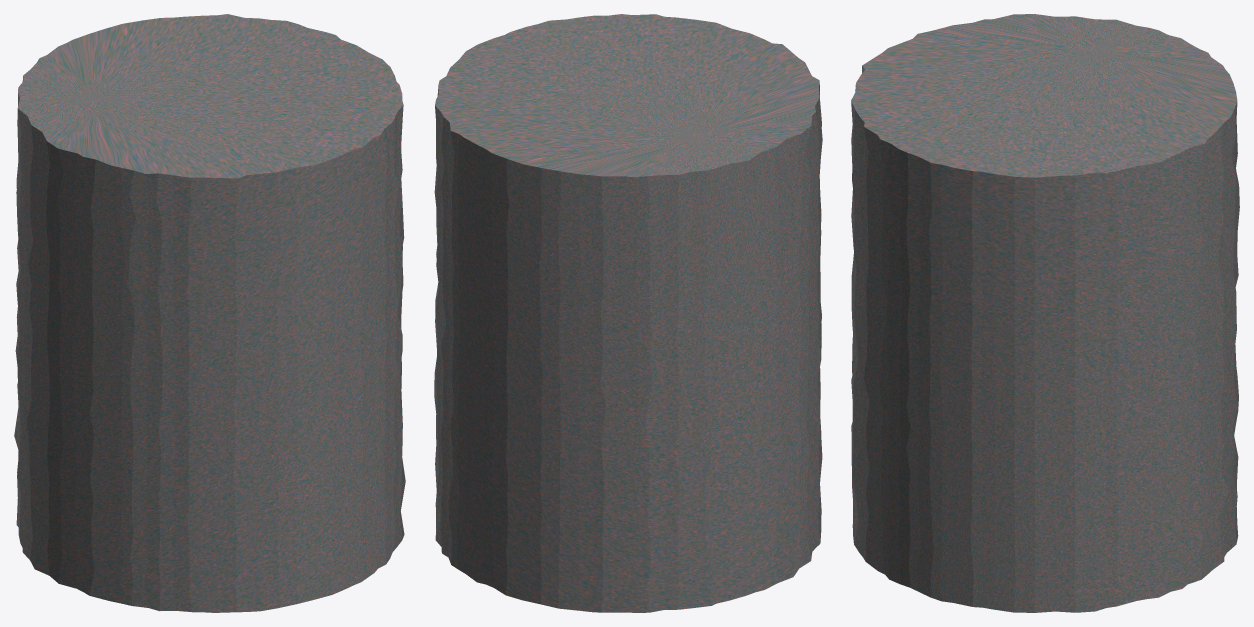
Rendered from barrel_19.dae.
3 views of the same model, side by side, from view 1: azimuth 30°, elevation 25°; view 2: azimuth 150°, elevation 25°; view 3: azimuth 270°, elevation 25° (orthographic).
Parts seen in each view (by area): view 1: Cylinder; view 2: Cylinder; view 3: Cylinder.
Boxes of the visible parts, x1,y1,x2,y2 form: Cylinder: [14, 14, 405, 612]; Cylinder: [434, 14, 822, 612]; Cylinder: [851, 14, 1239, 612].
Bounding box in the file's own units: 0.8163 × 0.809 × 1.
1 material, 1 textured.
